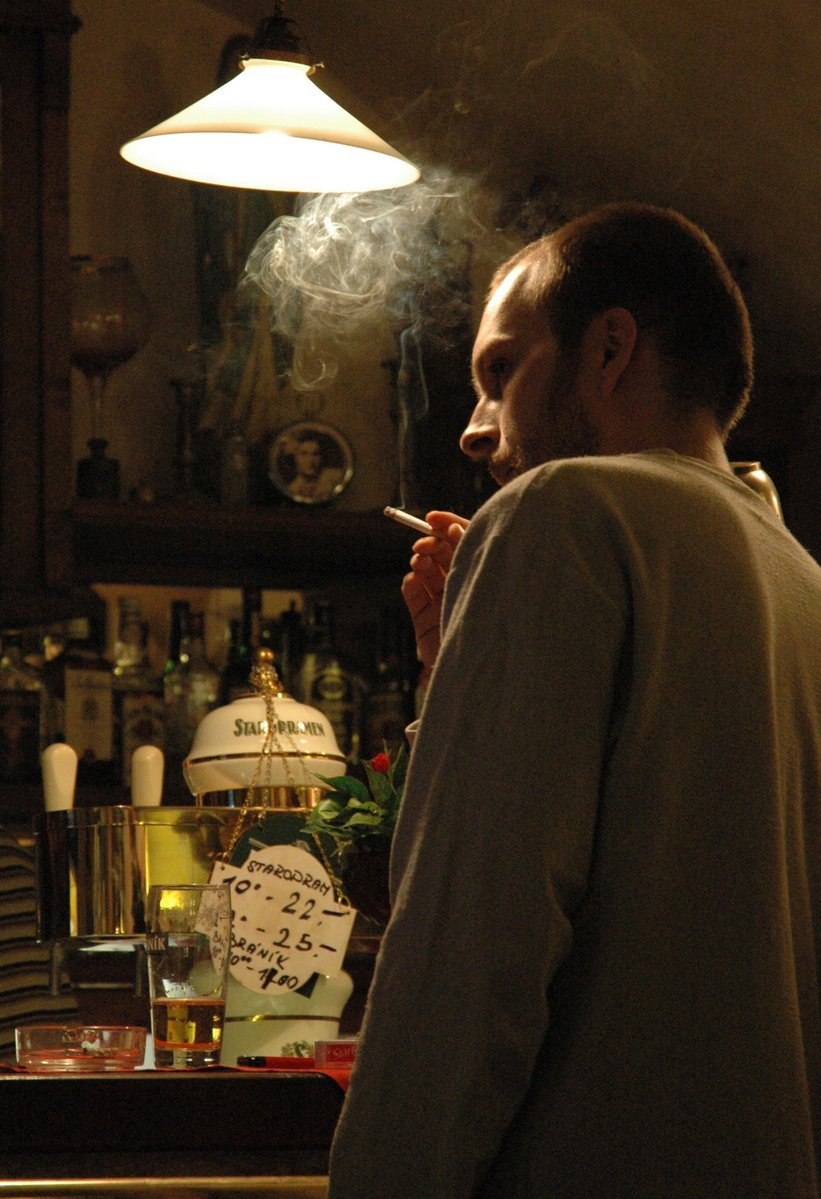alcohol: (143, 875, 236, 1075)
cigarette: (381, 501, 440, 541)
